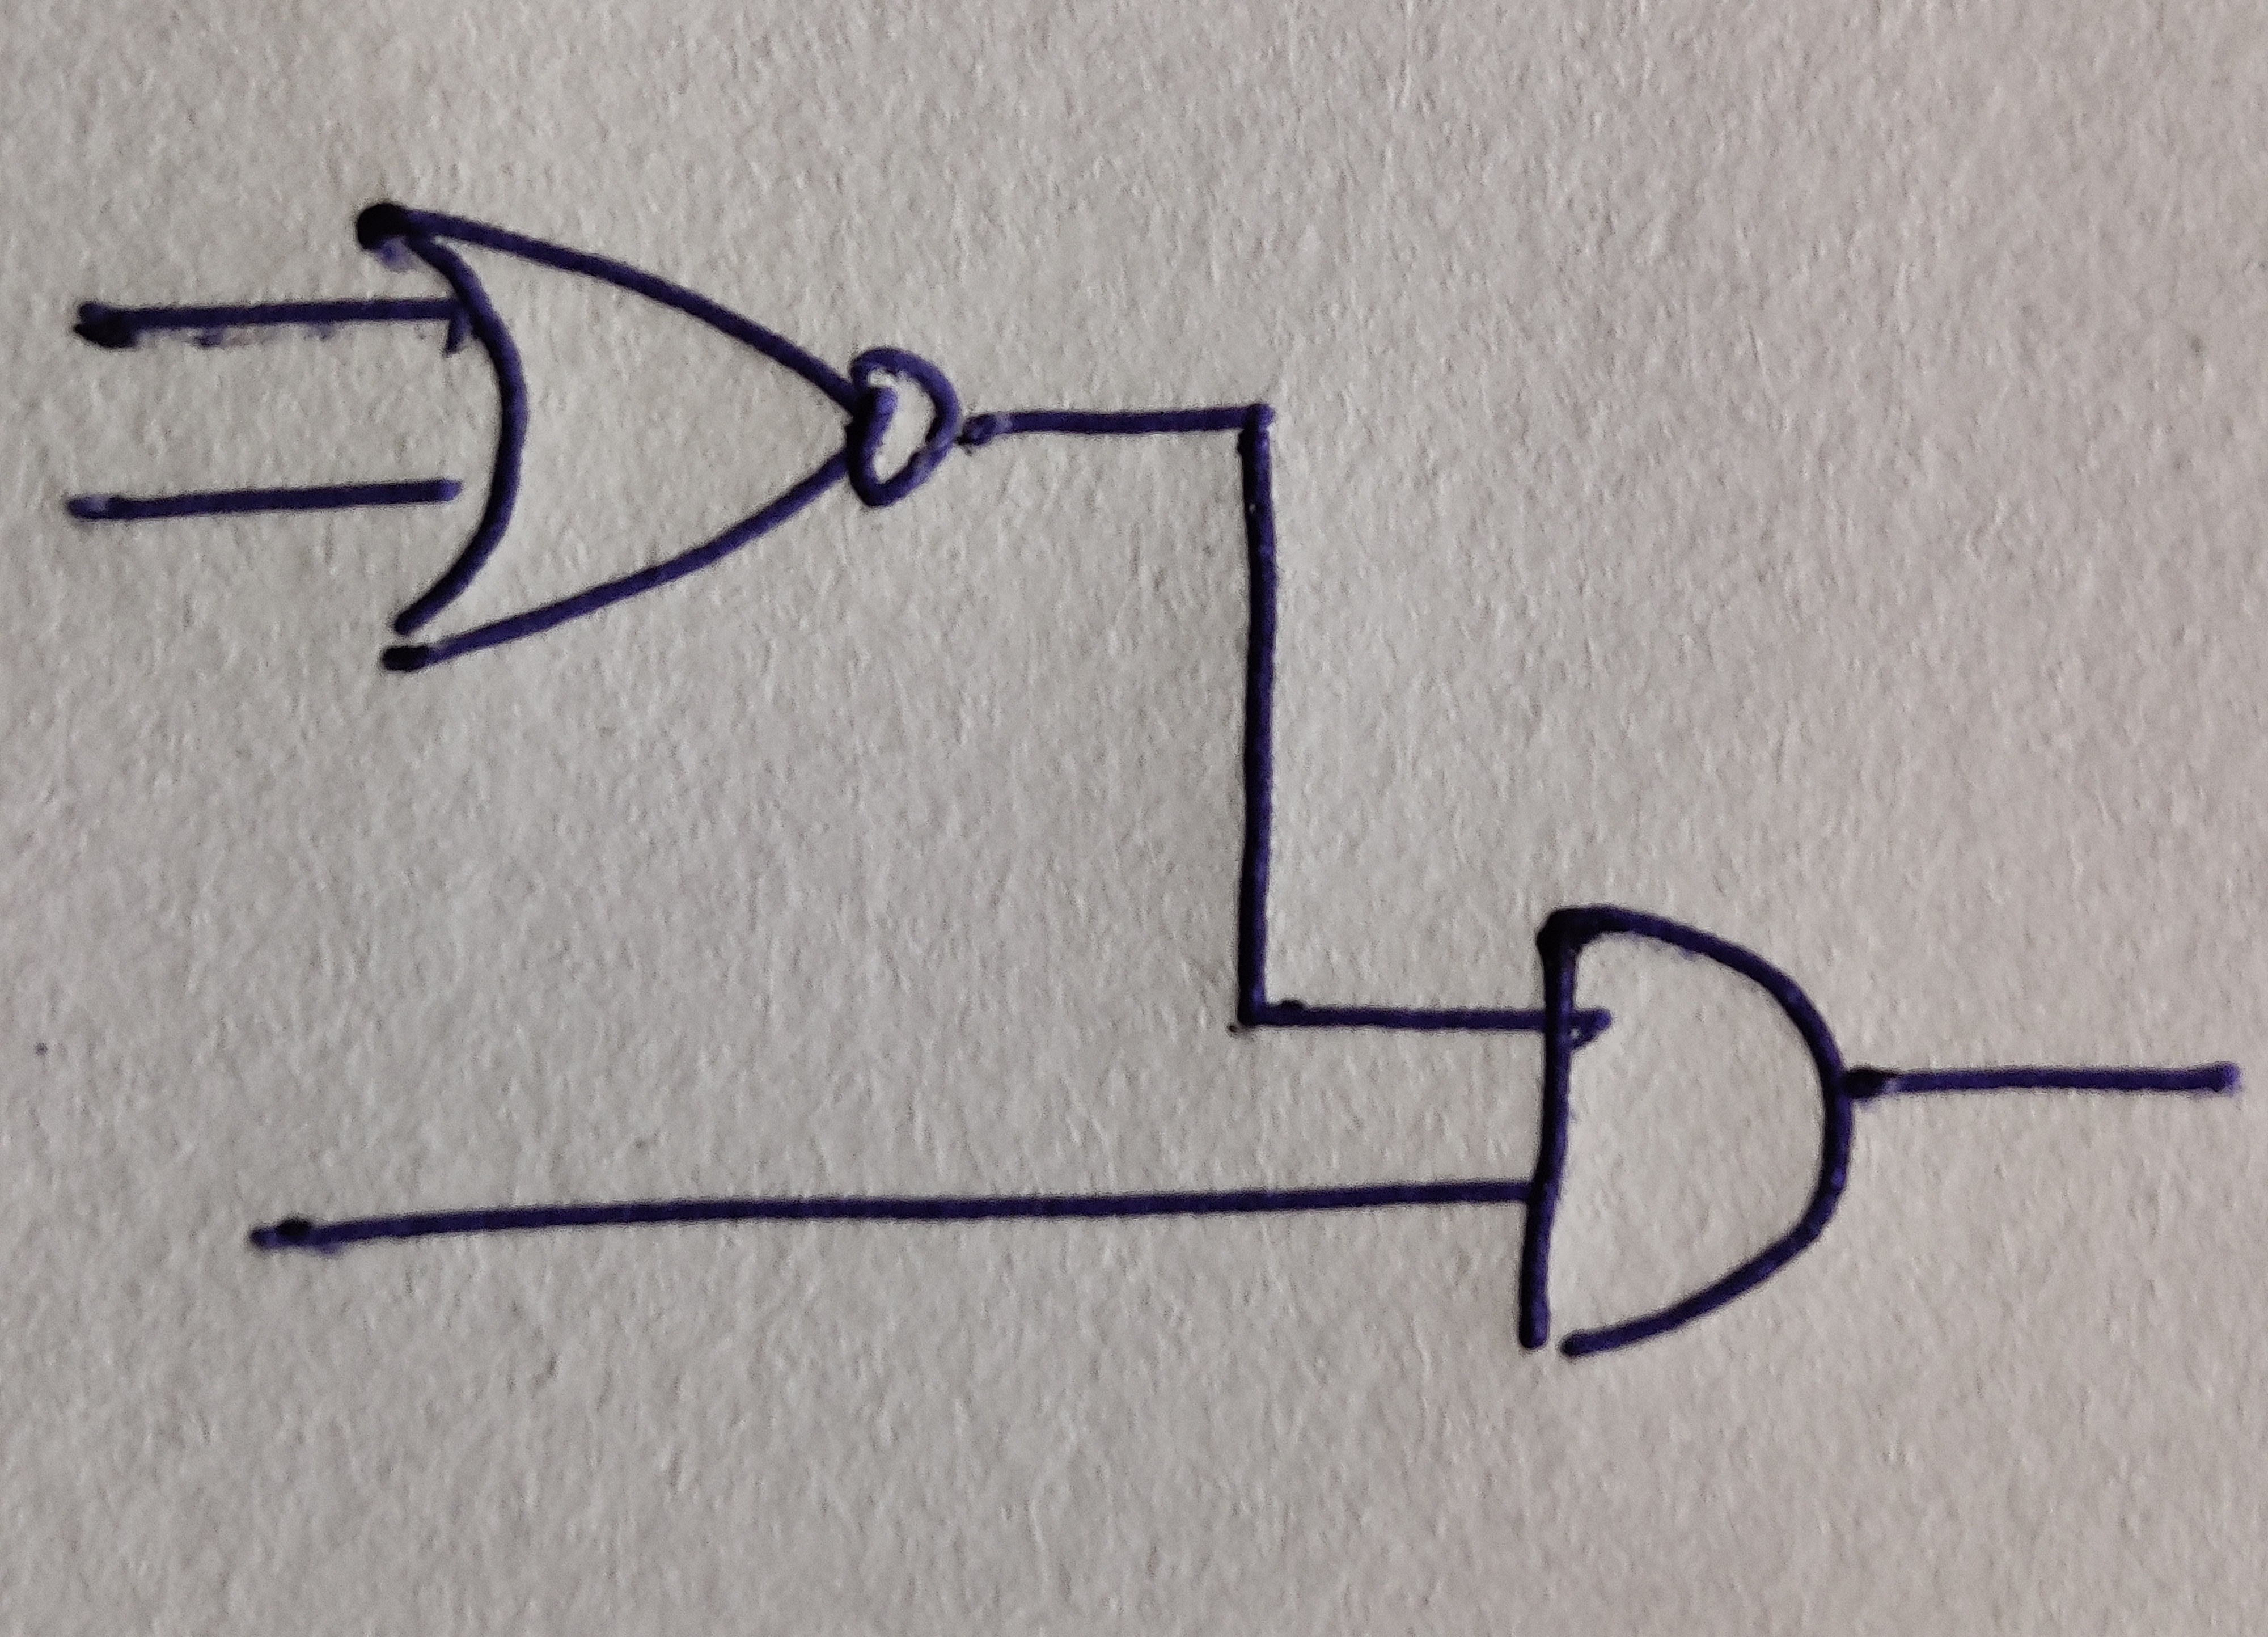and: (1518, 905, 1854, 1359)
not: (850, 347, 960, 509)
or: (354, 202, 896, 672)
